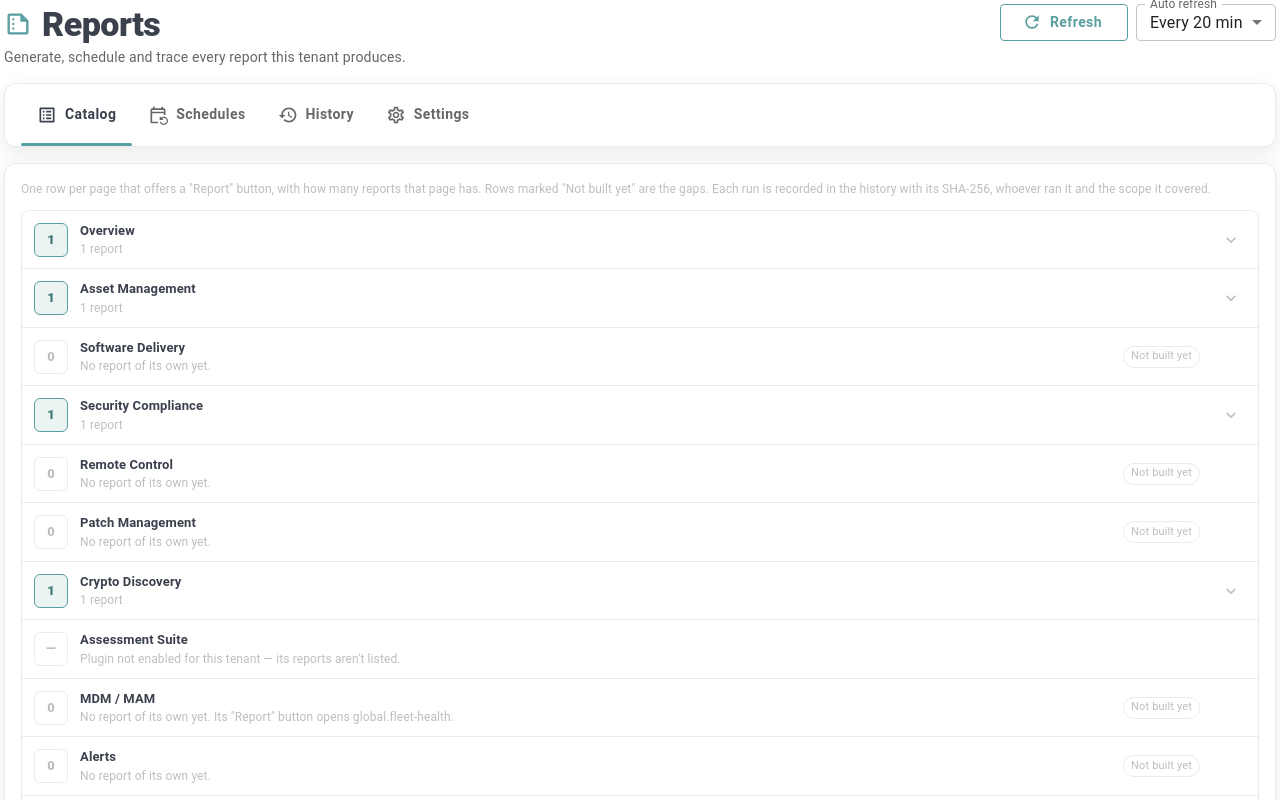
it: Reports page › Email no se ofrece antes de generar; sí sobre lo ya generado
The image size is (1280, 800).
Click the button named "Expand Crypto Discovery". click: coordinates (1231, 591)
box: [1216,576,1246,606]
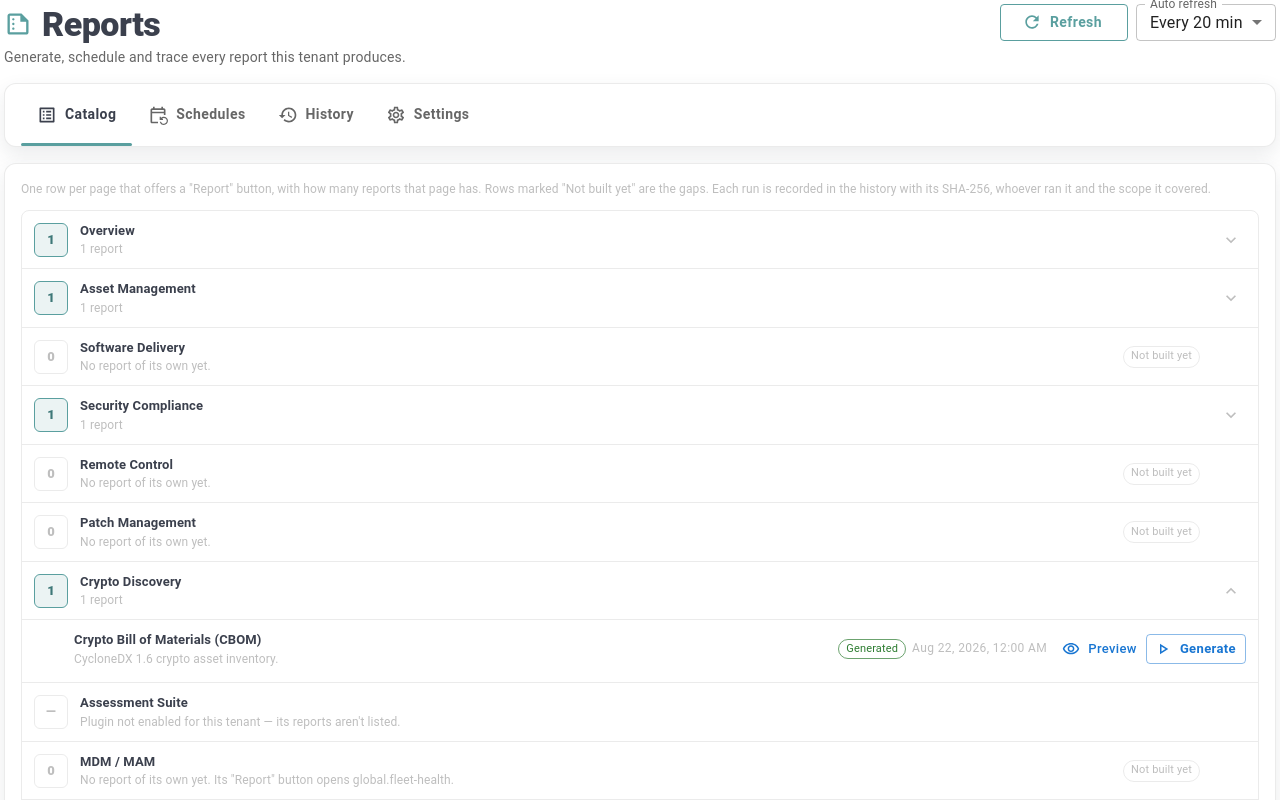
Expected: the button "email" is not shown
Click the button "Generate ". click: coordinates (1196, 649)
box: [1146,634,1246,664]
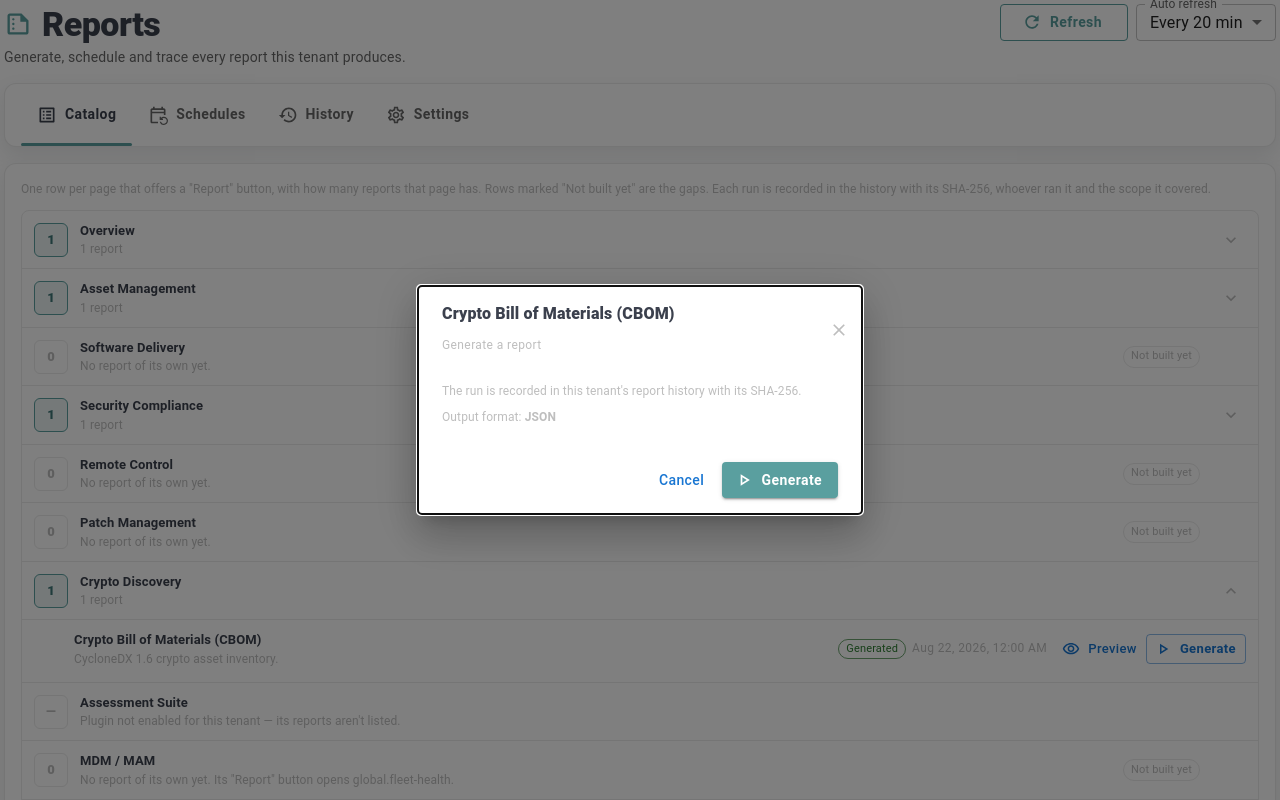
Click the button "Generate". click: coordinates (780, 480)
box: [722,462,838,498]
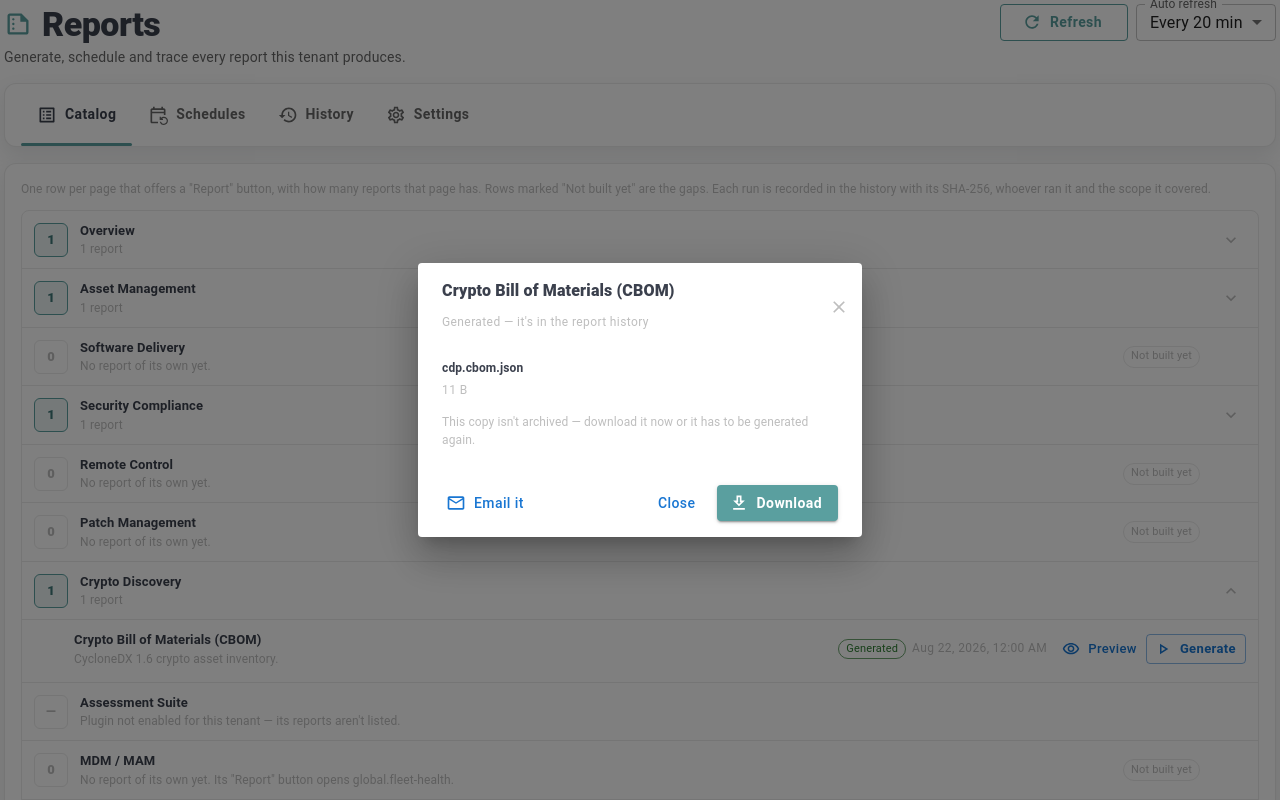
Click the button "Email it". click: coordinates (487, 503)
box: [442,485,532,521]
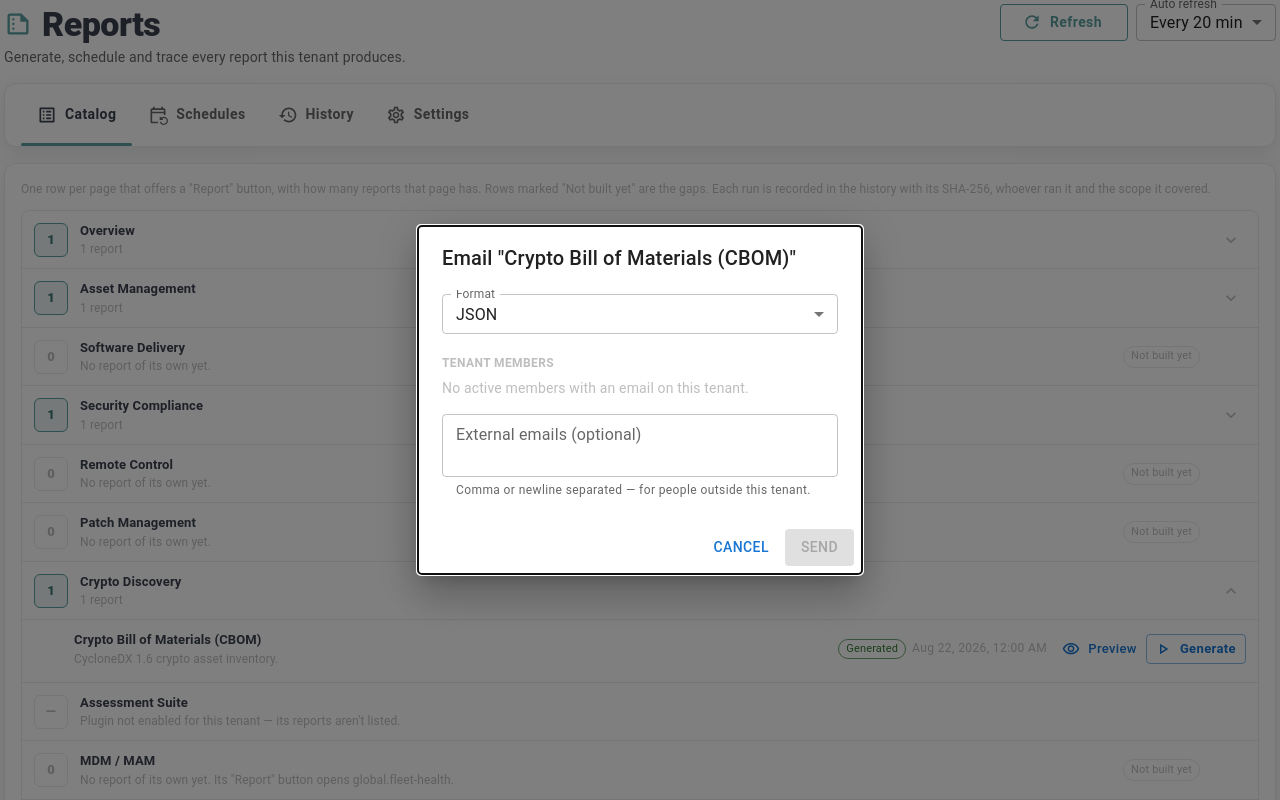
Expected: the heading "Email \"Crypto Bill of Materials (CBOM)\"" is shown, [442,246,796,270]
